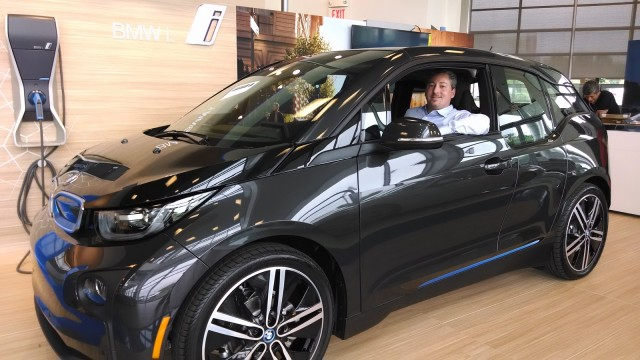Carro: (26, 45, 612, 360)
